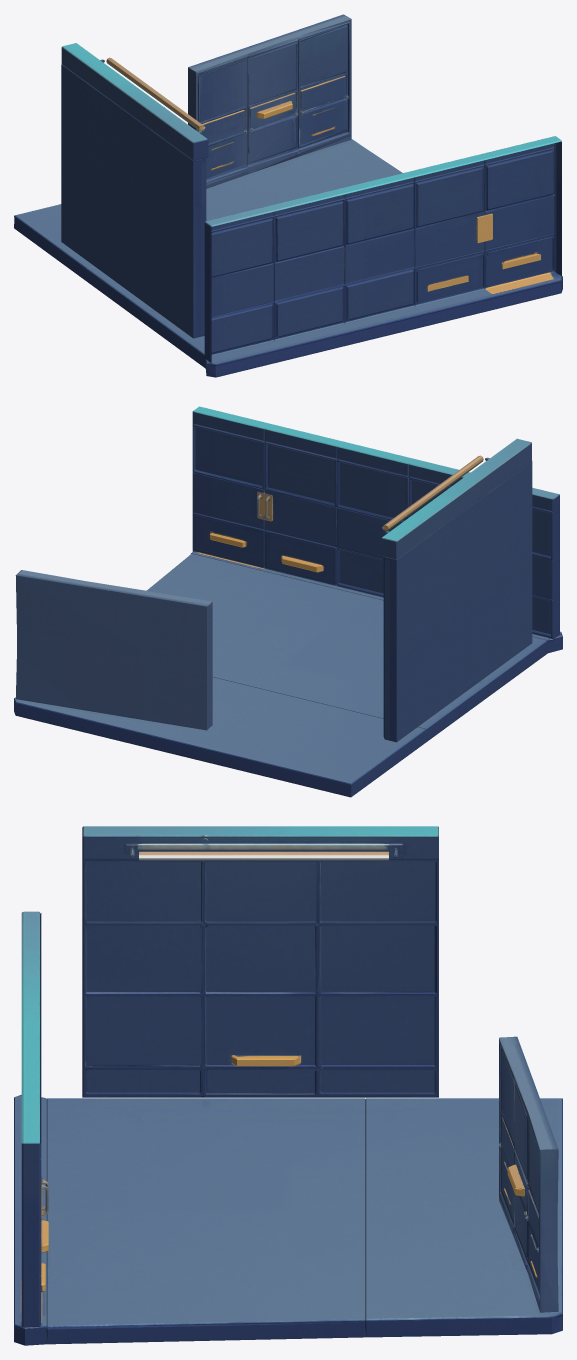
File: warehouse-bay-shell-kit.glb
3 renders of one model, top to bottom at view 1: azimuth 30°, elevation 25°; view 2: azimuth 150°, elevation 25°; view 3: azimuth 270°, elevation 25°, orthographic. The views are drawn at different scales.
Parts seen in each view (by area): view 1: tripo_node_ed3cc8b3-95bc-4a65-a902-8f7c94f09bfe; view 2: tripo_node_ed3cc8b3-95bc-4a65-a902-8f7c94f09bfe; view 3: tripo_node_ed3cc8b3-95bc-4a65-a902-8f7c94f09bfe.
Part boxes in pixels (left/top/right/bottom): tripo_node_ed3cc8b3-95bc-4a65-a902-8f7c94f09bfe: left=14, top=14, right=562, bottom=377; tripo_node_ed3cc8b3-95bc-4a65-a902-8f7c94f09bfe: left=14, top=406, right=562, bottom=797; tripo_node_ed3cc8b3-95bc-4a65-a902-8f7c94f09bfe: left=14, top=826, right=562, bottom=1345.
Bounding box in the file's own units: 0.998 × 0.5762 × 0.9863.
Materials: 1 (1 with a texture image).
